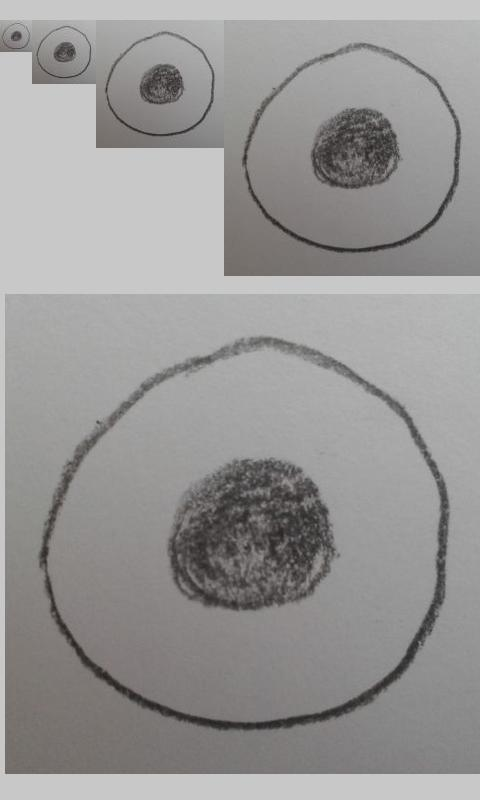radio_button: (37, 334, 451, 734), (242, 42, 462, 253), (105, 30, 215, 137), (36, 25, 93, 79), (1, 22, 31, 50)
